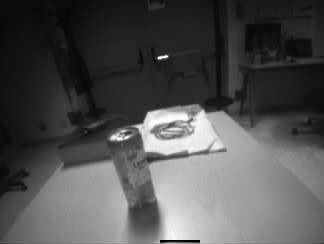Tin can: (109, 128, 158, 207)
